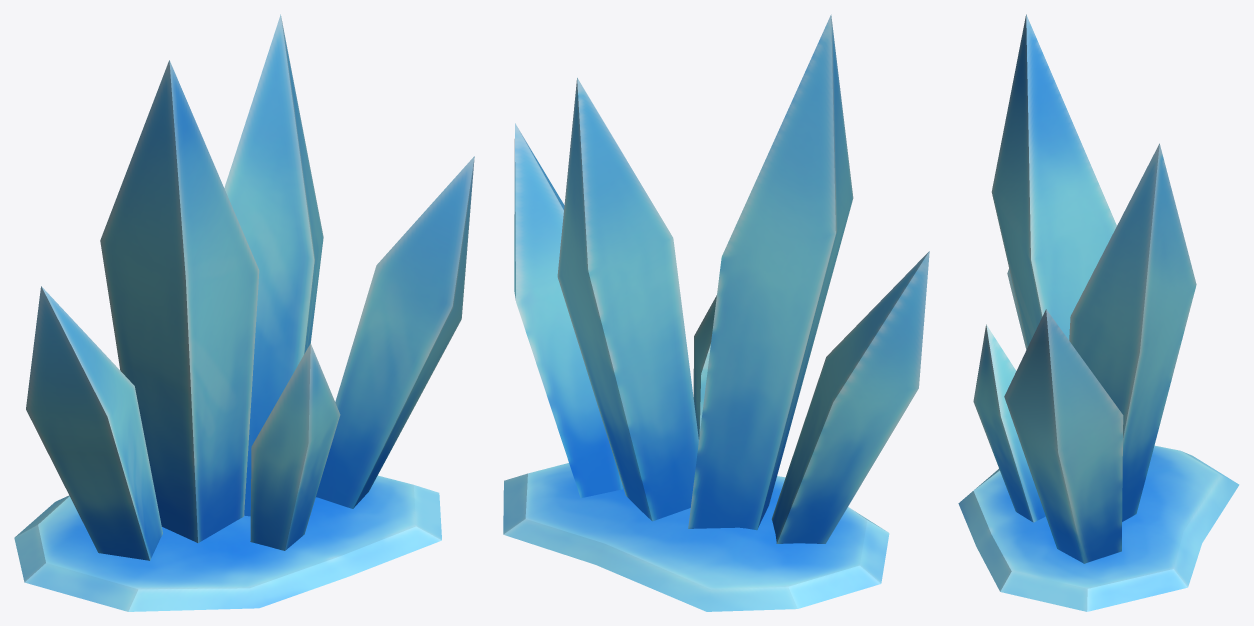
File: Blue_Crystal.FBX
The picture shows the model from 3 angles, left to right: view 1: azimuth 30°, elevation 25°; view 2: azimuth 150°, elevation 25°; view 3: azimuth 270°, elevation 25°; orthographic projection. The views are drawn at different scales.
Parts seen in each view (by area): view 1: Crystal_Part07, Crystal_Patch, Crystal_Part008, Crystal_Part03, Crystal_Part02, Crystal_Part06; view 2: Crystal_Part07, Crystal_Part03, Crystal_Patch, Crystal_Part02, Crystal_Part008, Crystal_Part06; view 3: Crystal_Part03, Crystal_Patch, Crystal_Part07, Crystal_Part008, Crystal_Part06.
Boxes of the visible parts, x1,y1,x2,y2 form: Crystal_Part07: (100, 60, 259, 542); Crystal_Patch: (14, 475, 441, 611); Crystal_Part008: (316, 156, 474, 508); Crystal_Part03: (224, 14, 323, 516); Crystal_Part02: (26, 286, 162, 560); Crystal_Part06: (250, 343, 340, 550); Crystal_Part07: (688, 14, 853, 530); Crystal_Part03: (557, 77, 698, 521); Crystal_Patch: (503, 463, 889, 611); Crystal_Part02: (771, 251, 929, 543); Crystal_Part008: (514, 123, 622, 498); Crystal_Part06: (693, 295, 716, 439); Crystal_Part03: (1069, 143, 1196, 521); Crystal_Patch: (958, 445, 1239, 611); Crystal_Part07: (991, 14, 1116, 347); Crystal_Part008: (1004, 309, 1123, 563); Crystal_Part06: (973, 324, 1045, 522).
Bounding box in the file's own units: 12.7 × 15.46 × 8.12.
1 material, 1 textured.
